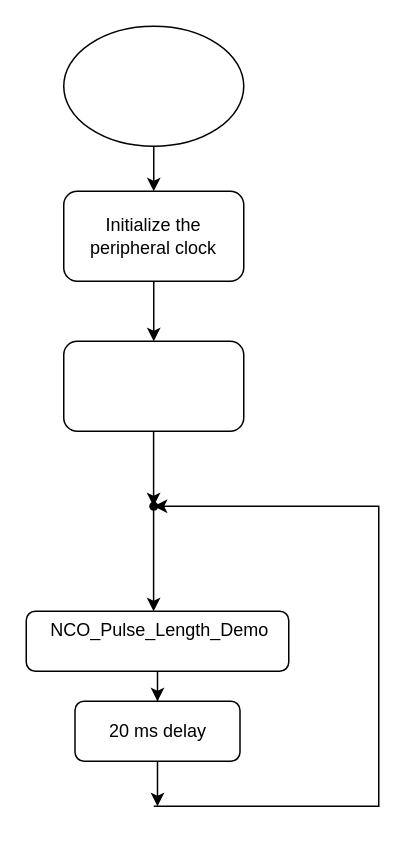
This 417x845 diagram has some shape labels left out. Each missing label, with the centre of its shape:
"Initialize the TCF" goes at (x=153, y=385).
"Start" goes at (x=153, y=85).
